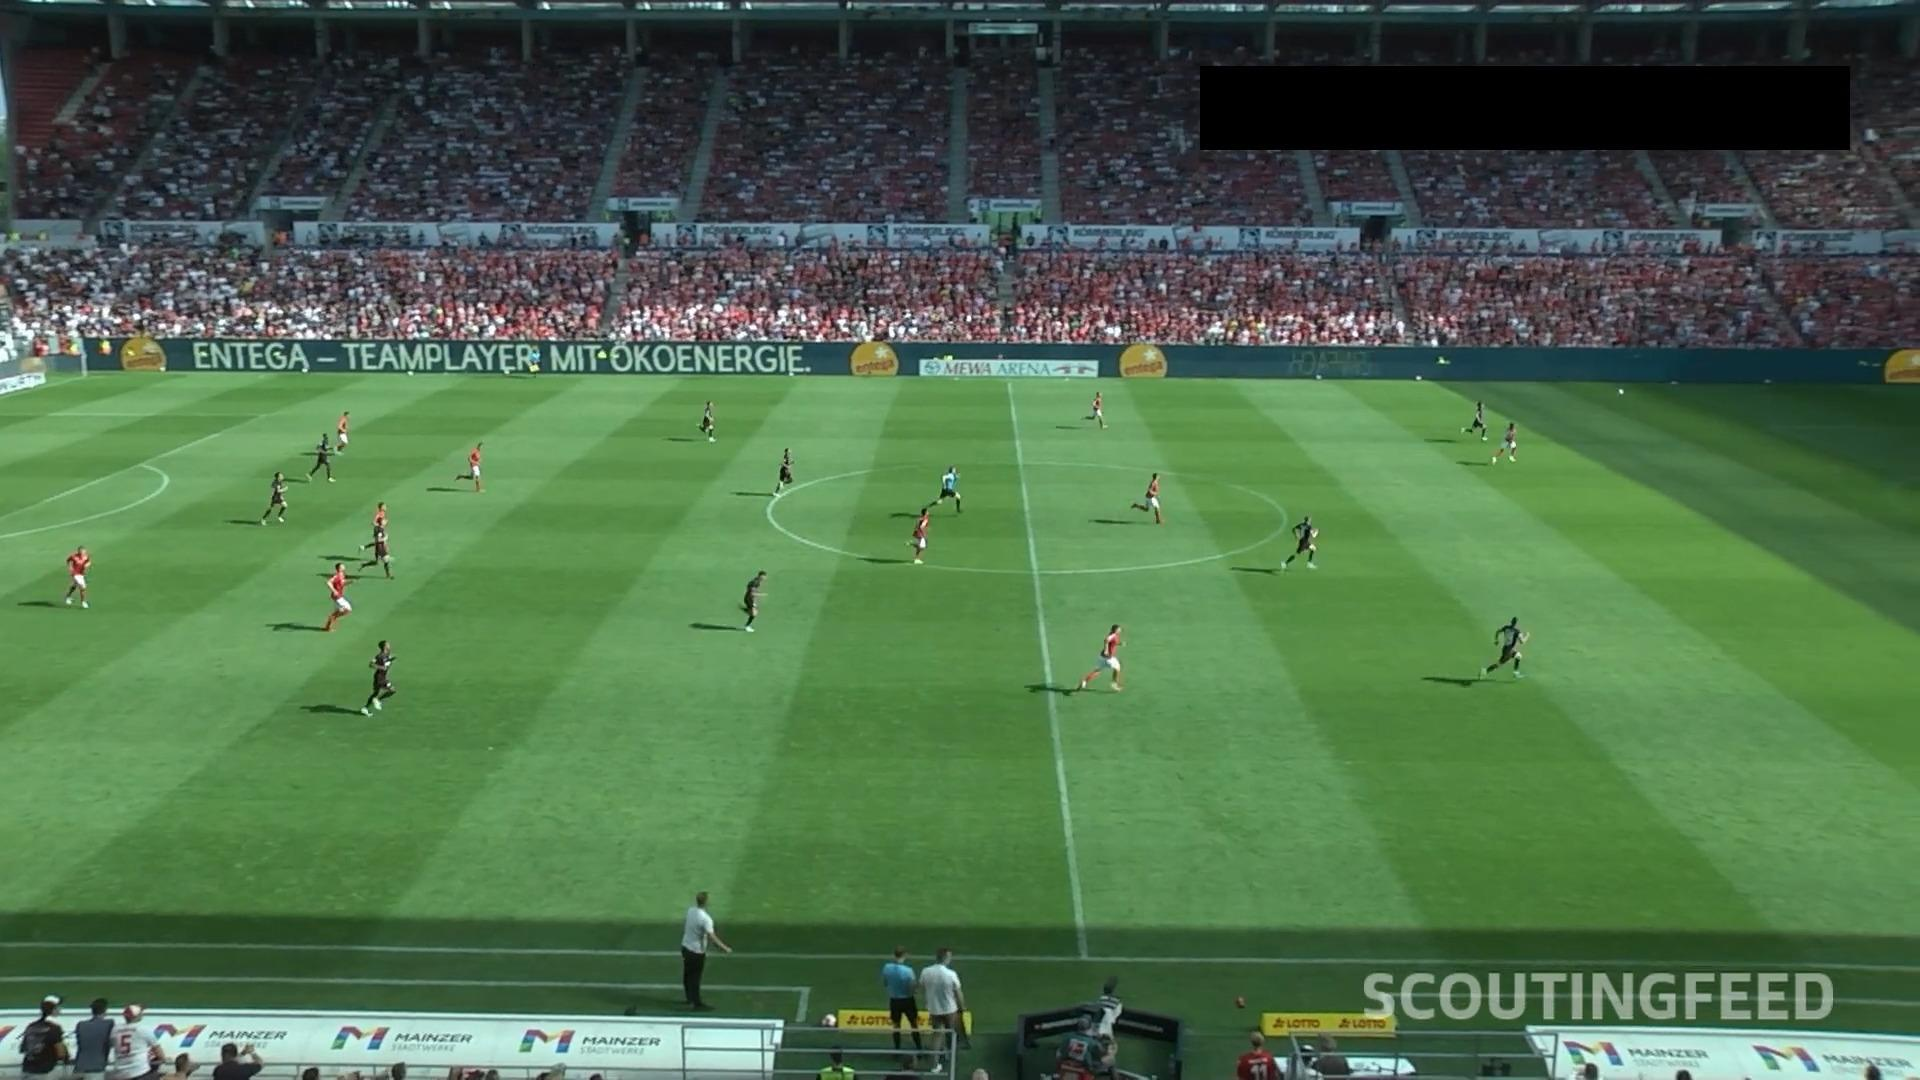ball: (1617, 388, 1625, 396)
